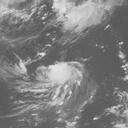cyclone: (47, 62, 78, 87)
